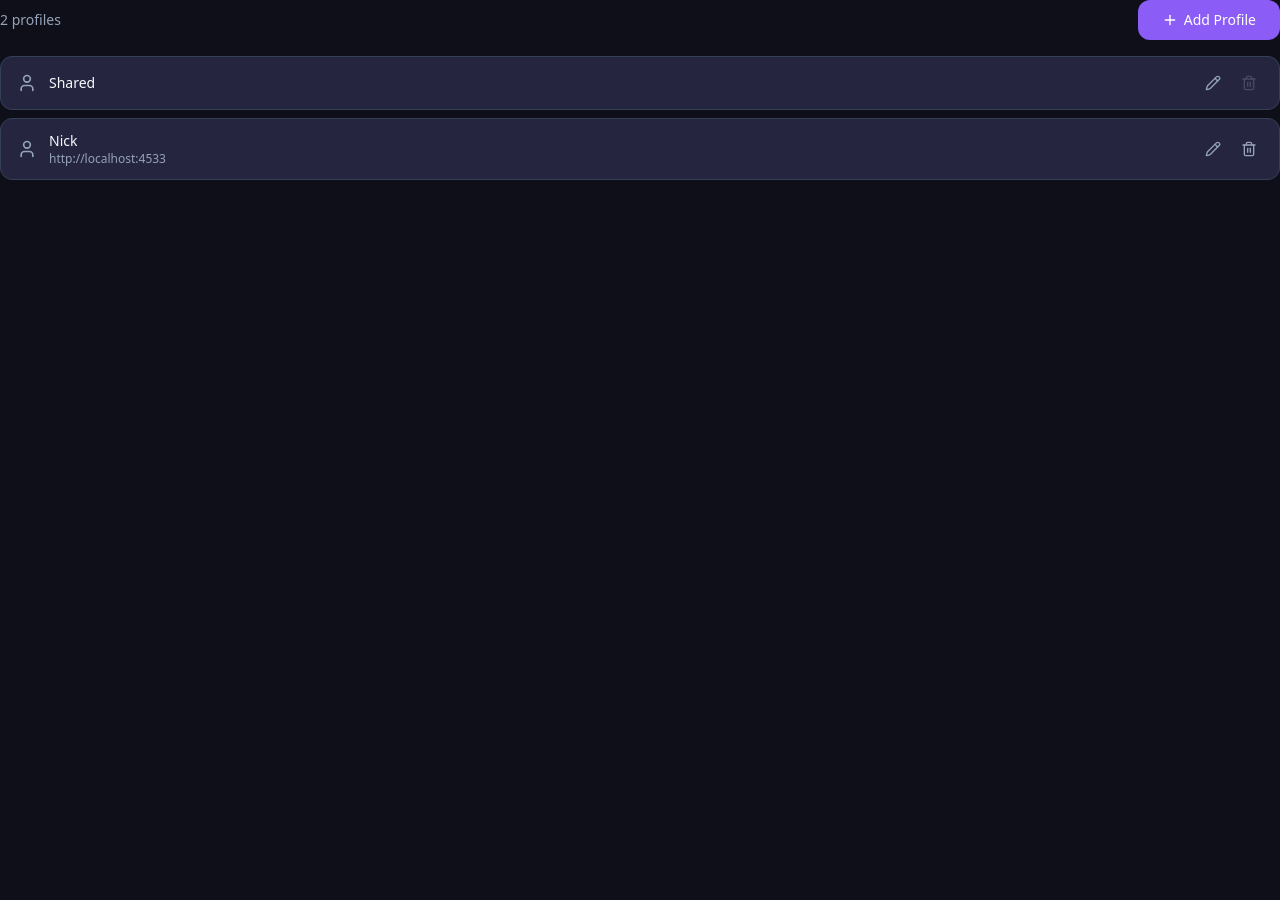
Test: ProfilesTab › shows delete confirmation dialog when Delete is clicked
Click the button named "delete nick" at (1249, 149), box [1235, 135, 1263, 163]
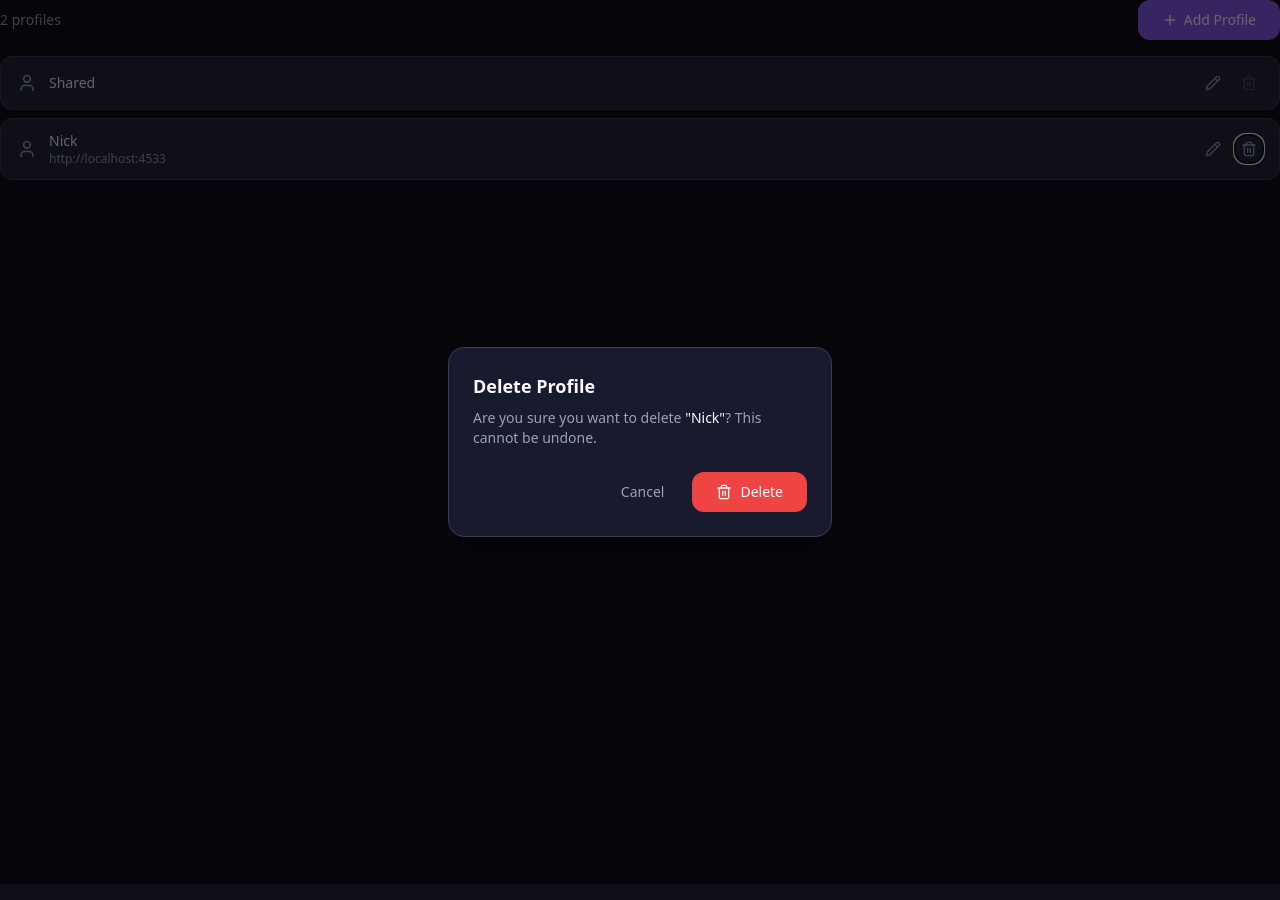
Expected: the heading "Delete Profile" is shown, [473, 374, 595, 398]
Expected: the text "\"Nick\"" is shown, [685, 408, 725, 427]
